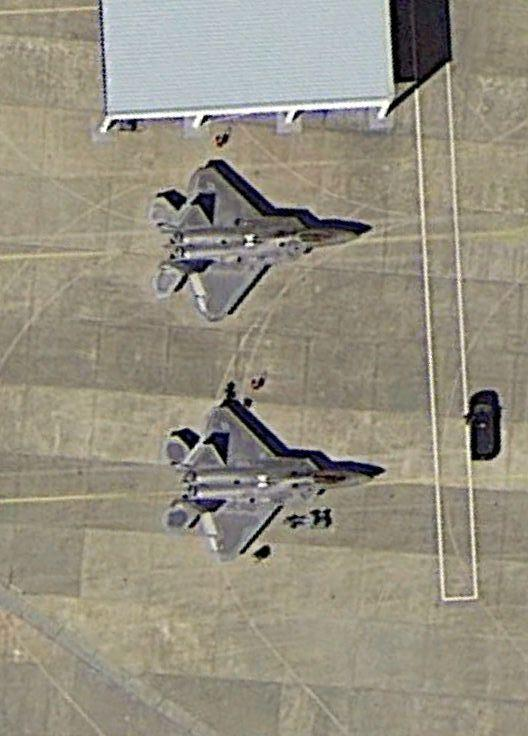F-22: (161, 396, 387, 567), (146, 164, 377, 324)
